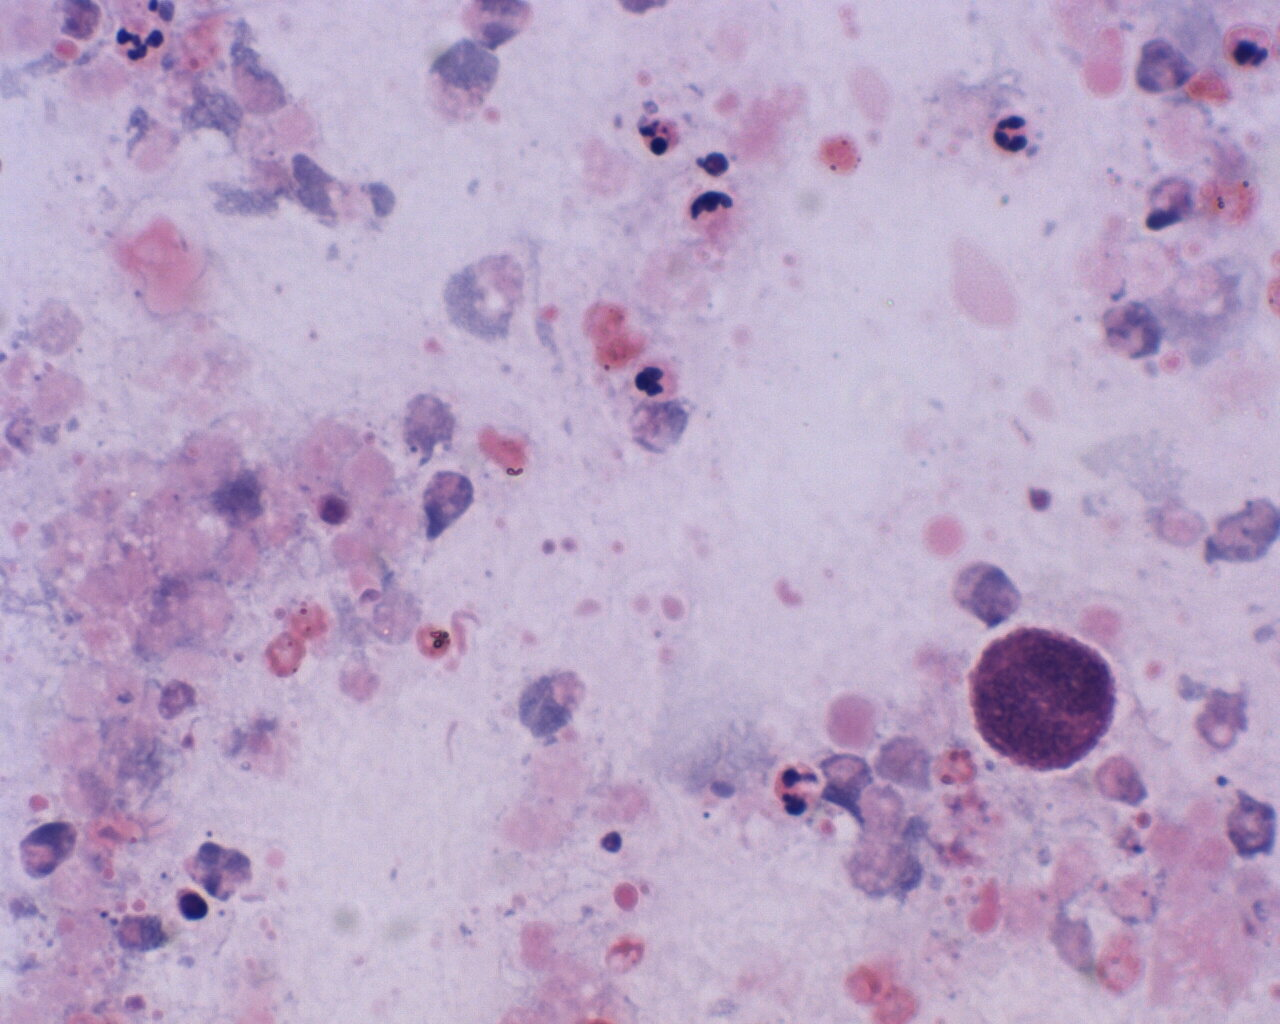ab: (970, 621, 1120, 773)
neutro: (628, 358, 680, 406), (988, 106, 1034, 153)
